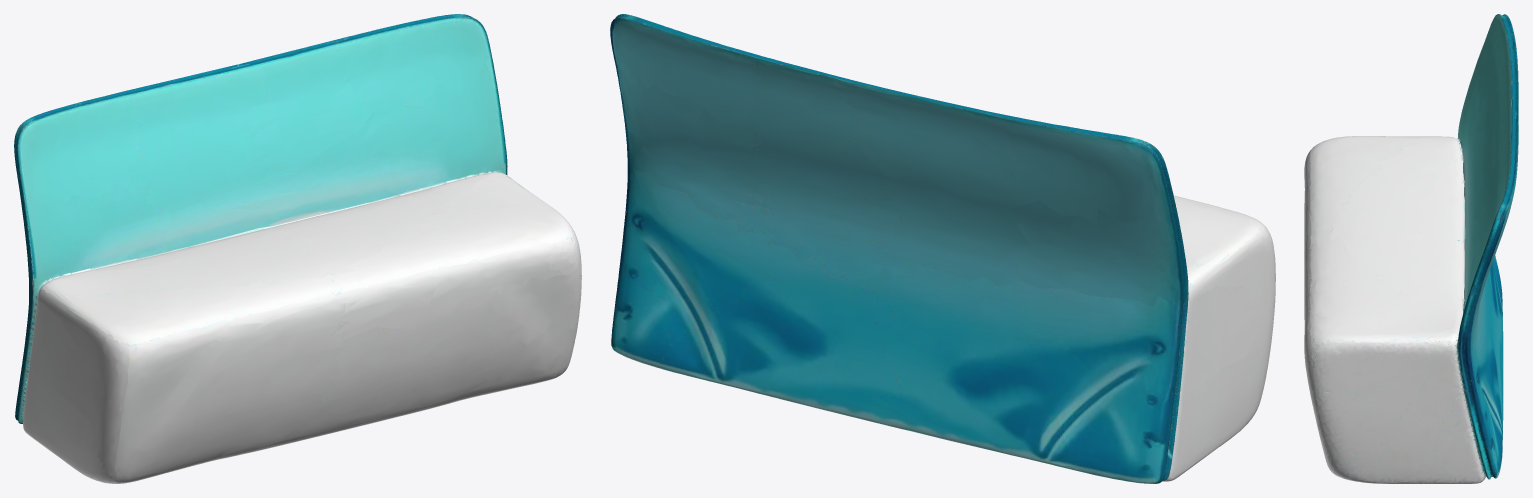
File: bench.glb
3 renders of one model, left to right at view 1: azimuth 30°, elevation 25°; view 2: azimuth 150°, elevation 25°; view 3: azimuth 270°, elevation 25°, orthographic. The views are drawn at different scales.
Bounding box in the file's own units: 1.9 × 1.14 × 0.8176.
Materials: 1 (1 with a texture image).
